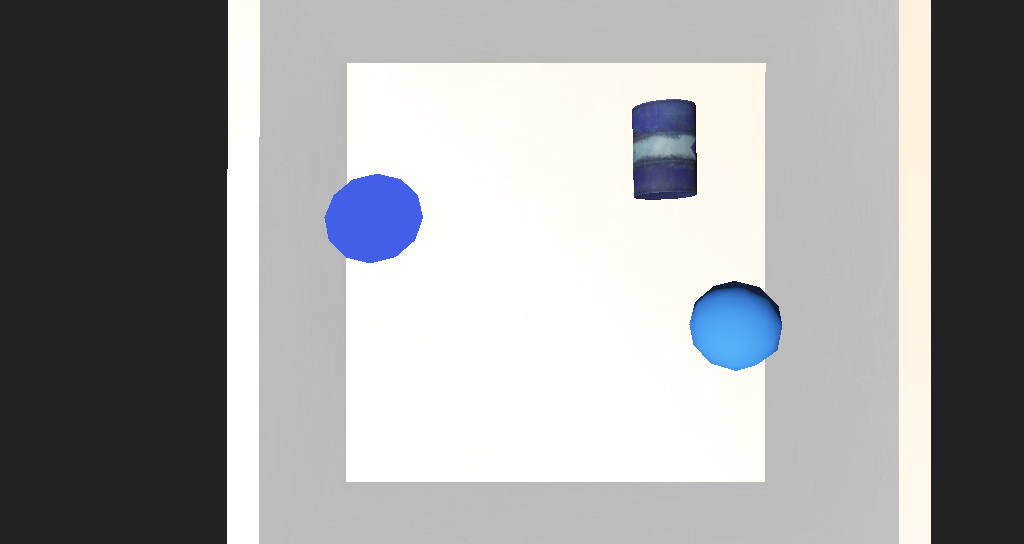cone: (563, 181, 610, 229)
cylinder: (347, 220, 421, 277)
sphere: (603, 274, 664, 317)
